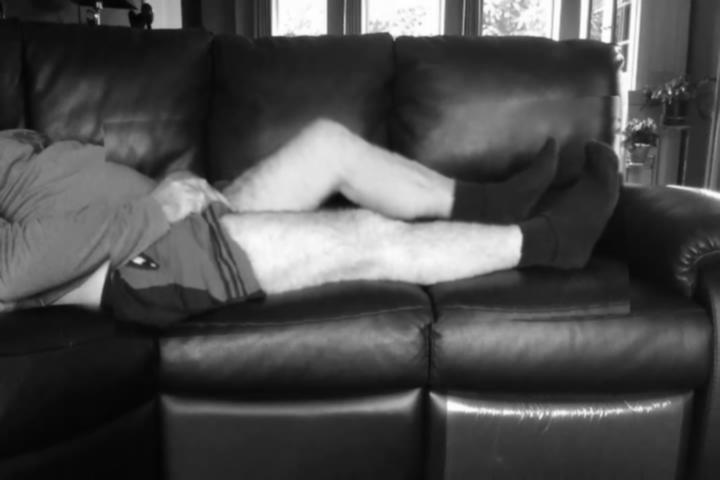lowerbody: (106, 103, 629, 335)
